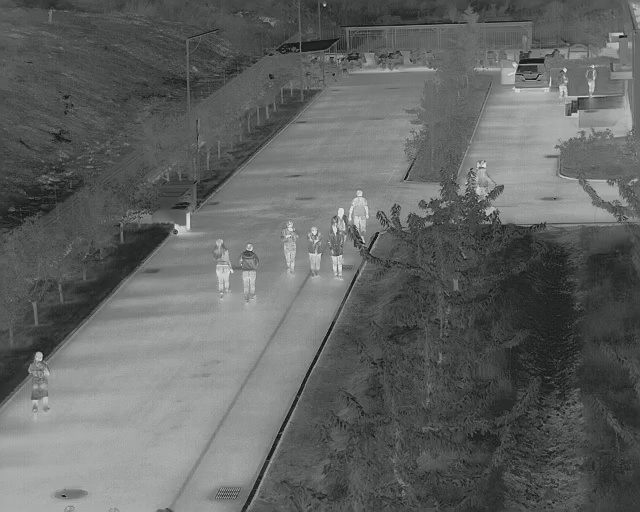person: (27, 351, 52, 416), (238, 242, 258, 304), (212, 236, 232, 298), (328, 223, 345, 281), (280, 220, 297, 275), (306, 227, 323, 277), (350, 188, 368, 232), (478, 159, 495, 195), (557, 65, 568, 101), (586, 63, 596, 95)
vehicle: (510, 58, 551, 95)
